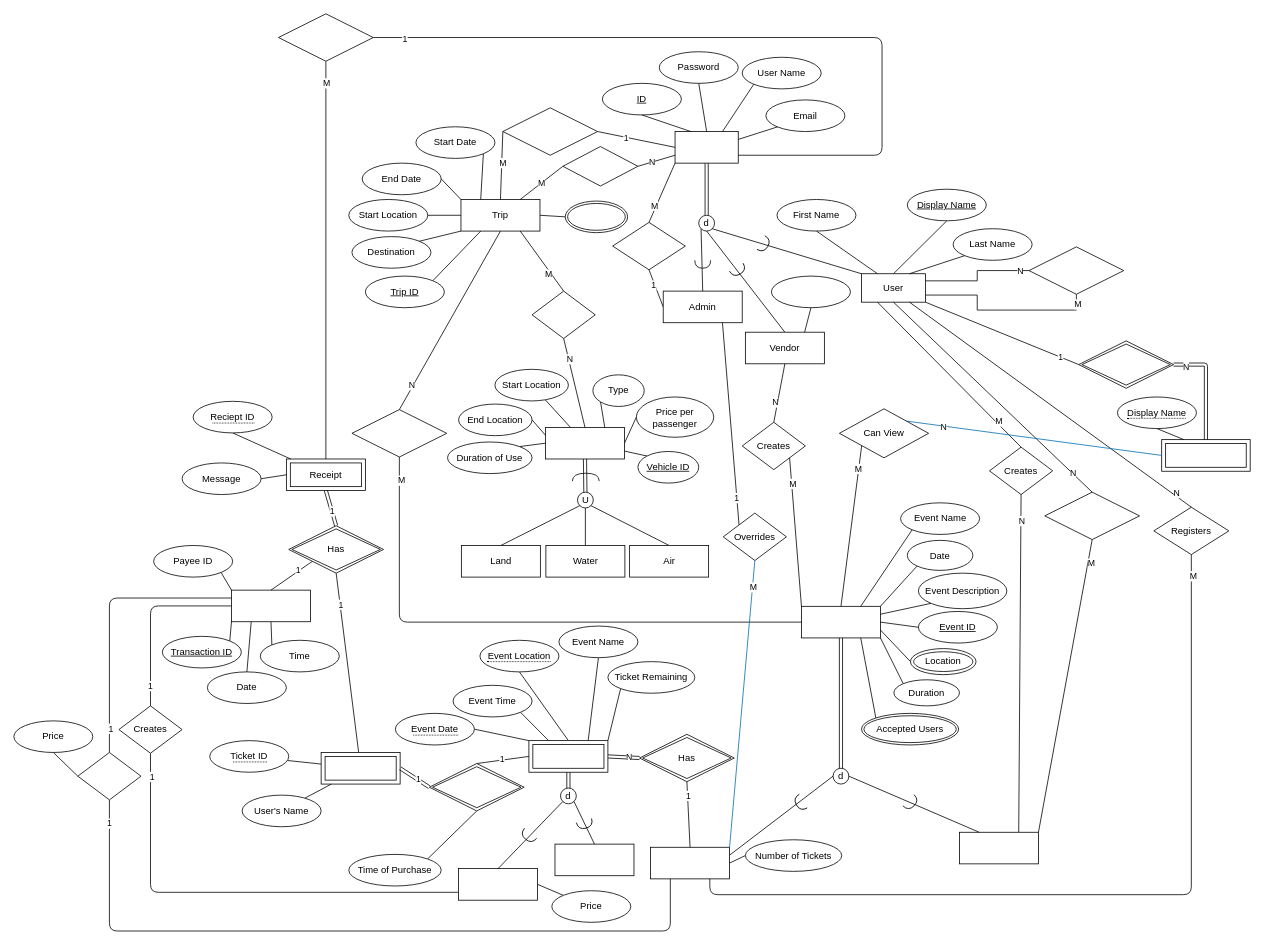
This 1264x946 diagram has some shape labels left out. The box of each missing label's shape, as (x1, y1, x2, y2) in pixels:
Accepts Invitiation: (1044, 491, 1140, 540)
Account: (674, 131, 738, 163)
Can Delete: (612, 222, 685, 270)
Event: (801, 606, 880, 638)
Free: (554, 843, 634, 876)
Groups: (351, 409, 447, 457)
Invites: (1028, 246, 1124, 294)
Locations: (564, 200, 628, 233)
Moderates: (562, 146, 638, 186)
Offer Access: (1078, 340, 1174, 388)
Own: (502, 107, 598, 155)
Paid: (458, 868, 538, 900)
Private Event: (959, 831, 1038, 864)
Public Event: (650, 846, 730, 879)
Receives: (278, 13, 373, 61)
Relationship: (429, 763, 524, 811)
Requires: (77, 752, 141, 800)
Temporary User: (1161, 439, 1250, 471)
Ticket: (320, 752, 400, 784)
Ticket Available: (528, 740, 608, 772)
Transaction: (231, 589, 310, 622)
Uses: (531, 290, 595, 339)
Vehicle: (545, 427, 624, 459)
Vendor Name: (771, 275, 850, 308)
